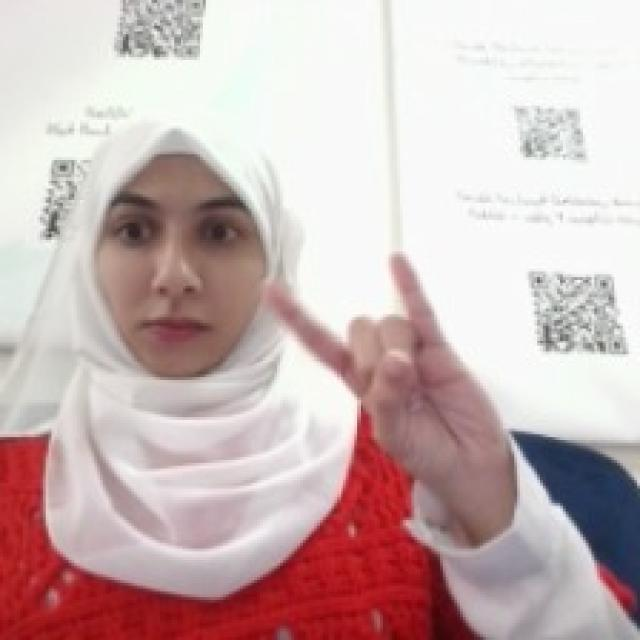No: (260, 240, 511, 466)
